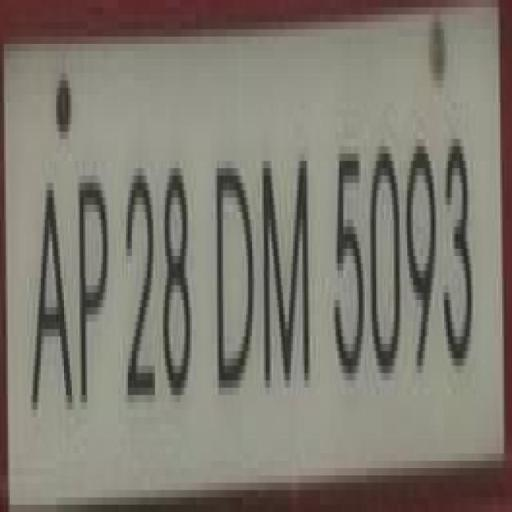number plate: (25, 0, 512, 490)
